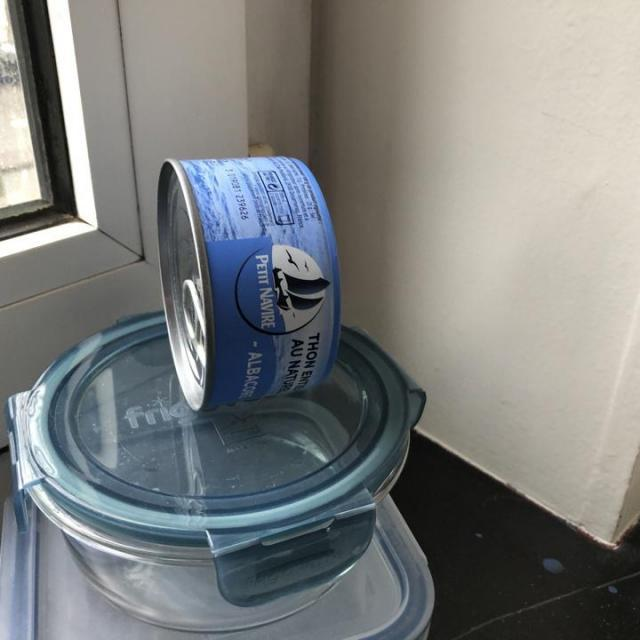recyclable: (148, 148, 346, 420)
